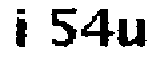4: (80, 5, 114, 47)
5: (47, 5, 80, 51)
i: (12, 3, 32, 55)
u: (116, 14, 148, 53)
